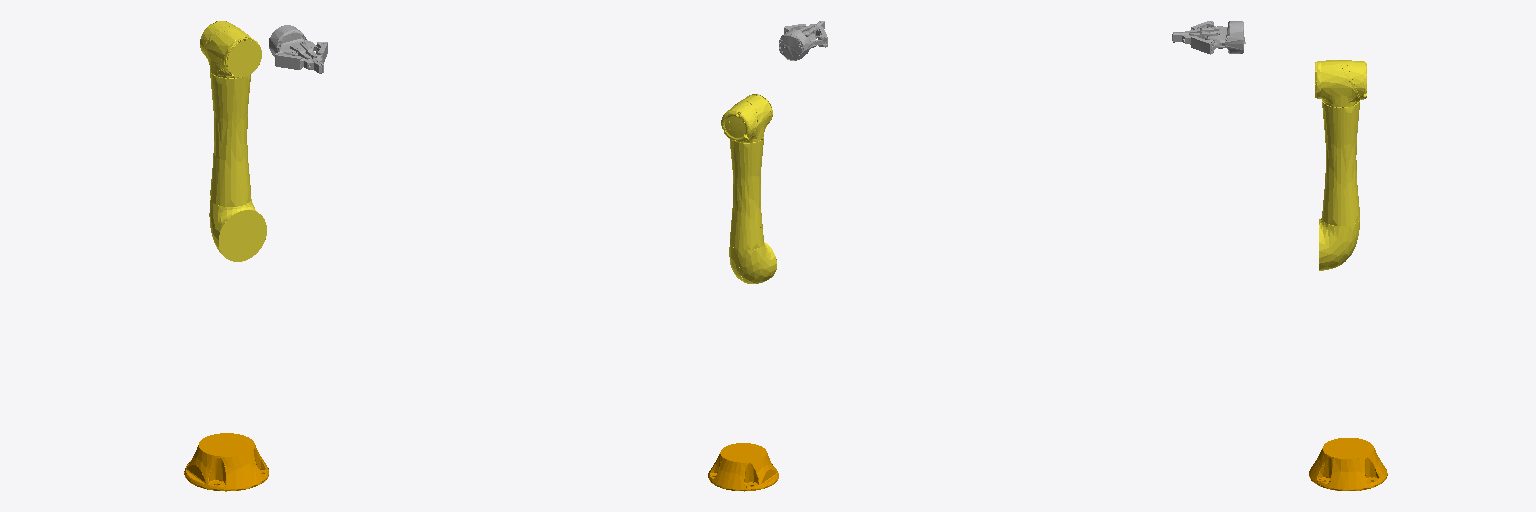
The robot description file, URDF, robot "tm5-900":
<?xml version="1.0" ?>
<robot name="tm5-900">

  <link name="link_0">
    <visual>
      <geometry>
        <mesh filename="package://tmr_description/meshes/tm5-900/visual/tm5_base.obj"/>
      </geometry>
    </visual>
    <collision>
      <geometry>
        <mesh filename="package://tmr_description/meshes/tm5-900/collision/tm5_base_c.stl"/>
      </geometry>
    </collision>
  </link>

  <joint name="joint_1" type="revolute">
    <parent link="link_0"/>
    <child link="link_1"/>
    <origin xyz="0 0 0.1452" rpy="0 0 0"/>
    <axis xyz="0 0 1"/>
    <limit effort="100.0" lower="-3.14" upper="3.14" velocity="1.0"/>
  </joint>

  <link name="link_1">
    <visual>
      <geometry>
        <mesh filename="package://tmr_description/meshes/tm5-900/visual/tmr_400w_01.obj"/>
      </geometry>
    </visual>
    <collision>
      <geometry>
        <mesh filename="package://tmr_description/meshes/tm5-900/collision/tmr_400w_01_c.stl"/>
      </geometry>
    </collision>
  </link>

  <joint name="joint_2" type="revolute">
    <parent link="link_1"/>
    <child link="link_2"/>
    <origin xyz="0 0 0" rpy="-1.570796327 -1.570796327 0"/>
    <axis xyz="0 0 1"/>
    <limit effort="100.0" lower="-3.14" upper="3.14" velocity="1.0"/>
  </joint>

  <link name="link_2">
    <visual>
      <geometry>
        <mesh filename="package://tmr_description/meshes/tm5-900/visual/tm5-900_arm1.obj"/>
      </geometry>
    </visual>
    <collision>
      <geometry>
        <mesh filename="package://tmr_description/meshes/tm5-900/collision/tm5-900_arm1_c.stl"/>
      </geometry>
    </collision>
  </link>

  <joint name="joint_3" type="revolute">
    <parent link="link_2"/>
    <child link="link_3"/>
    <origin  xyz="0.429 0 0" rpy="0 0 0"/>
    <axis xyz="0 0 1"/>
    <limit effort="100.0" lower="-3.14" upper="3.14" velocity="1.0"/>
  </joint>

  <link name="link_3">
    <visual>
      <geometry>
        <mesh filename="package://tmr_description/meshes/tm5-900/visual/tm5-900_arm2.obj"/>
      </geometry>
    </visual>
    <collision>
      <geometry>
        <mesh filename="package://tmr_description/meshes/tm5-900/collision/tm5-900_arm2_c.stl"/>
      </geometry>
    </collision>
  </link>

  <joint name="joint_4" type="revolute">
    <parent link="link_3"/>
    <child link="link_4"/>
    <origin xyz="0.4115 0 -0.1223" rpy="0 0 1.570796327"/>
    <axis xyz="0 0 1"/>
    <limit effort="10.0" lower="-3.14" upper="3.14" velocity="1.0"/>
  </joint>

  <link name="link_4">
    <visual>
      <geometry>
        <mesh filename="package://tmr_description/meshes/tm5-900/visual/tmr_100w_01.obj"/>
      </geometry>
    </visual>
    <collision>
      <geometry>
        <mesh filename="package://tmr_description/meshes/tm5-900/collision/tmr_100w_01_c.stl"/>
      </geometry>
    </collision>
  </link>

  <joint name="joint_5" type="revolute">
    <parent link="link_4"/>
    <child link="link_5"/>
    <origin xyz="0 -0.106 0" rpy="1.570796327 0 0"/>
    <axis xyz="0 0 1"/>
    <limit effort="10.0" lower="-3.14" upper="3.14" velocity="1.0"/>
  </joint>

  <link name="link_5">
    <visual>
      <geometry>
        <mesh filename="package://tmr_description/meshes/tm5-900/visual/tmr_100w_02.obj"/>
      </geometry>
    </visual>
    <collision>
      <geometry>
        <mesh filename="package://tmr_description/meshes/tm5-900/collision/tmr_100w_02_c.stl"/>
      </geometry>
    </collision>
  </link>

  <joint name="joint_6" type="revolute">
    <parent link="link_5"/>
    <child link="link_6"/>
    <origin xyz="0 -0.11315 0" rpy="1.570796327 0 0"/>
    <axis xyz="0 0 1"/>
    <limit effort="10.0" lower="-3.14" upper="3.14" velocity="1.0"/>
  </joint>

  <link name="link_6">
    <visual>
      <geometry>
        <mesh filename="package://tmr_description/meshes/tm5-900/visual/tmr_ee.obj"/>
      </geometry>
    </visual>
    <collision>
      <geometry>
        <mesh filename="package://tmr_description/meshes/tm5-900/collision/tmr_ee_c.stl"/>
      </geometry>
    </collision>
  </link>

  <joint name="joint_EOAT" type="fixed">
    <parent link="flange"/>
    <child link="EOAT"/>
    <origin xyz="0 0 0.15" rpy="0 0 0"/>
    <axis xyz="0 0 0"/>
  </joint>

  <link name="EOAT">
    <visual>
      <geometry>
        <mesh filename="package://tmr_description/meshes/gripper/robotiq/2f-85/robotiq_85_gripper.obj"/>
      </geometry>
    </visual>
    <collision>
      <geometry>
        <mesh filename="package://tmr_description/meshes/gripper/robotiq/2f-85/robotiq_85_gripper.stl"/>
      </geometry>
    </collision>
  </link>

  <link name="base" />
  <joint name="base_fixed_joint" type="fixed">
    <parent link="base"/>
    <child link="link_0"/>
    <origin xyz="0 0 0" rpy="0 0 0"/>
  </joint>

  <link name="flange"/>
  <joint name="flange_fixed_joint" type="fixed">
    <parent link="link_6"/>
    <child link="flange"/>
    <origin xyz="0 0 0" rpy="0 0 0"/>
  </joint>

</robot>

--- Facts derived from the render (not from the file) ---
3 views of the same robot in one strip: view 1: azimuth 30°, elevation 25°; view 2: azimuth 150°, elevation 25°; view 3: azimuth 270°, elevation 25° (orthographic).
Model tm5-900 with 10 links and 9 joints (6 revolute, 3 fixed), rooted at base, posed every joint at zero.
Visible links, largest first — view 1: link_3, link_0, EOAT; view 2: link_3, link_0, EOAT; view 3: link_3, link_0, EOAT.
Boxes of the visible links, box(x1,y1,x2,y2) form: link_3: box(200, 21, 266, 261); link_0: box(184, 433, 268, 491); EOAT: box(269, 25, 327, 73); link_3: box(721, 94, 776, 283); link_0: box(708, 443, 778, 491); EOAT: box(779, 21, 827, 60); link_3: box(1315, 60, 1366, 270); link_0: box(1309, 438, 1387, 490); EOAT: box(1172, 21, 1245, 54).
Bounding box of the posed robot: 0.1777 × 0.4873 × 1.13 m (x, y, z).
Meshes: 8 distinct files referenced, 3 mesh visuals loaded (3 OBJ); not drawn: 5 (reference not matched to a file when rendering).